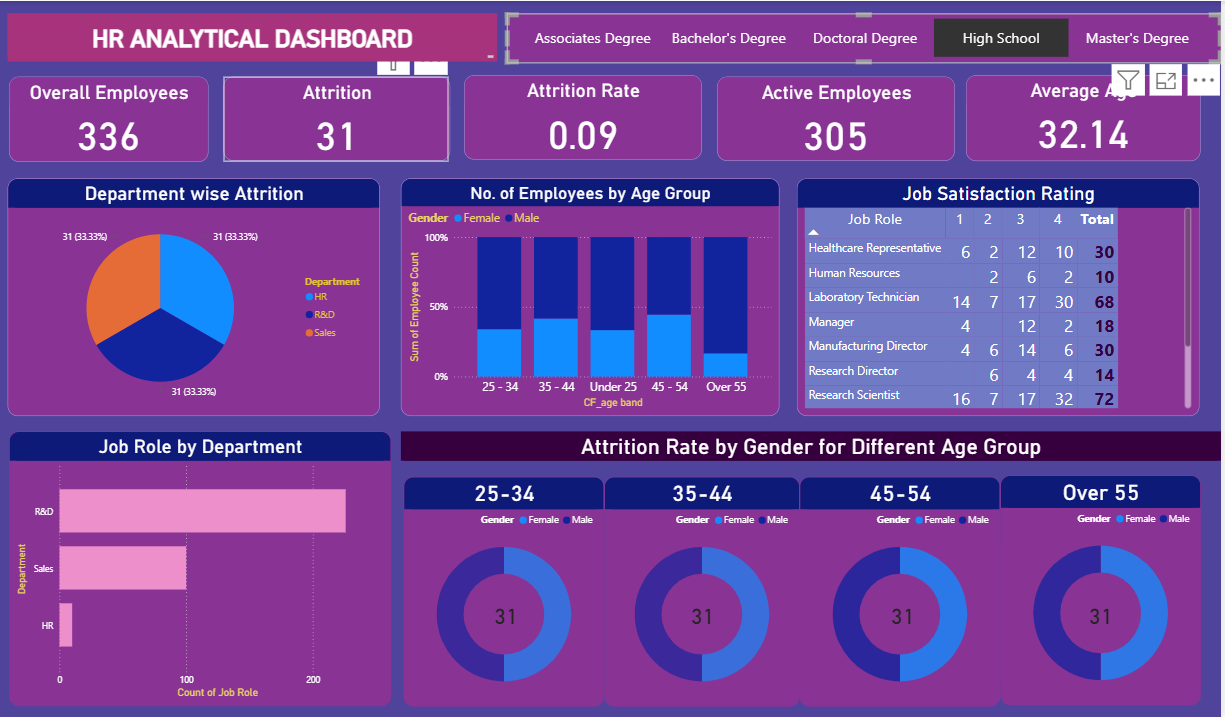

This screenshot's page, from the dashboard's own definition file:
{"tool":"powerbi","page":{"name":"Page 1","canvas":[1700,1000],"ordinal":0},"visuals":[{"type":"card","title":"Overall Employees","fields":{"Values":["Sum(Sheet1.Employee Count)"]},"box":[15.3,105.1,277,118.4],"z":0},{"type":"card","title":"Attrition","fields":{"Values":["Sum(Sheet2.Attrition Count)"]},"box":[312.5,105.7,314.7,116.9],"z":1000},{"type":"card","title":"Attrition Rate","fields":{"Values":["Sheet1.Attrition_Count"]},"box":[647.5,103.4,330.5,116.9],"z":2000},{"type":"card","title":"Active Employees","fields":{"Values":["Sheet1.Active_Employees"]},"box":[998.2,105.7,330.5,116.9],"z":3000},{"type":"card","title":"Average Age","fields":{"Values":["Avg(Sheet1.Age)"]},"box":[1344.4,103.4,326,119.2],"z":4000},{"type":"slicer","fields":{"Values":["Sheet1.Education"]},"box":[705.9,18,993.7,67.4],"z":5000},{"type":"pieChart","title":"Department wise Attrition","fields":{"Category":["Sheet1.Department"],"Y":["Sum(Sheet2.Attrition Count)"]},"box":[13.5,247.3,517.1,330.5],"z":6000},{"type":"hundredPercentStackedColumnChart","title":"No. of Employees by Age Group","fields":{"Category":["Sheet1.CF_age band"],"Y":["Sum(Sheet1.Employee Count)"],"Series":["Sheet1.Gender"]},"box":[559.8,247.3,526.1,330.5],"z":7000},{"type":"pivotTable","title":"Job Satisfaction Rating","fields":{"Rows":["Sheet1.Job Role"],"Columns":["Sheet1.Job Satisfaction"],"Values":["Sum(Sheet1.Employee Count)"]},"box":[1110.6,247.3,559,330.5],"z":8000},{"type":"barChart","title":"Job Role by Department","fields":{"Y":["CountNonNull(Sheet1.Job Role)"],"Category":["Sheet1.Department"]},"box":[15.3,597.9,531,382],"z":9000},{"type":"textbox","title":"Attrition Rate by Gender for Different Age Group","box":[559.8,598,1139.8,40.5],"z":10000},{"type":"donutChart","title":"35-44","fields":{"Category":["Sheet1.Gender"],"Y":["Sum(Sheet2.Attrition Count)"],"Series":["Sheet1.CF_age band"]},"box":[842.4,660.9,271.2,319],"z":11000},{"type":"donutChart","title":"45-54","fields":{"Category":["Sheet1.Gender"],"Series":["Sheet1.CF_age band"],"Y":["Sum(Sheet2.Attrition Count)"]},"box":[1113.6,660.9,278.9,319],"z":12000},{"type":"donutChart","title":"Over 55","fields":{"Y":["Sum(Sheet2.Attrition Count)"],"Category":["Sheet1.Gender"],"Series":["Sheet1.CF_age band"]},"box":[1391.6,658.7,278.8,319.2],"z":13000},{"type":"textbox","title":"HR ANALYTICAL DASHBOARD","box":[13.4,17.2,680,66.9],"z":14000},{"type":"card","title":"35-44","fields":{"Values":["Sum(Sheet2.Attrition Count)"]},"box":[878.6,750.7,200.6,204.4],"z":15000},{"type":"card","title":"45-54","fields":{"Values":["Sum(Sheet2.Attrition Count)"]},"box":[1123.1,750.7,267.4,204.4],"z":16000},{"type":"card","title":"Over 55","fields":{"Values":["Sum(Sheet2.Attrition Count)"]},"box":[1392.5,750.7,278.9,204.4],"z":17000},{"type":"donutChart","title":"25-34","fields":{"Y":["Sum(Sheet2.Attrition Count)"],"Category":["Sheet1.Gender"],"Series":["Sheet1.CF_age band"]},"box":[563.5,660.9,278.9,319],"z":18000},{"type":"card","title":"35-44","fields":{"Values":["Sum(Sheet2.Attrition Count)"]},"box":[605.5,750.7,200.6,204.4],"z":19000}]}

Visuals, with their boxes in screenshot pixels (x1, y1, x2, y2), scaled from the page's 1700x1000 canvas onto the 1225x717 screenshot:
"Overall Employees" card: [11,75,211,160]
"Attrition" card: [225,76,452,160]
"Attrition Rate" card: [467,74,705,158]
"Active Employees" card: [719,76,957,160]
"Average Age" card: [969,74,1204,160]
slicer - Sheet1.Education: [509,13,1224,61]
"Department wise Attrition" pieChart: [10,177,382,414]
"No. of Employees by Age Group" hundredPercentStackedColumnChart: [403,177,782,414]
"Job Satisfaction Rating" pivotTable: [800,177,1203,414]
"Job Role by Department" barChart: [11,429,394,703]
"Attrition Rate by Gender for Different Age Group" textbox: [403,429,1224,458]
"35-44" donutChart: [607,474,802,703]
"45-54" donutChart: [802,474,1003,703]
"Over 55" donutChart: [1003,472,1204,701]
"HR ANALYTICAL DASHBOARD" textbox: [10,12,500,60]
"35-44" card: [633,538,778,685]
"45-54" card: [809,538,1002,685]
"Over 55" card: [1003,538,1204,685]
"25-34" donutChart: [406,474,607,703]
"35-44" card: [436,538,581,685]
